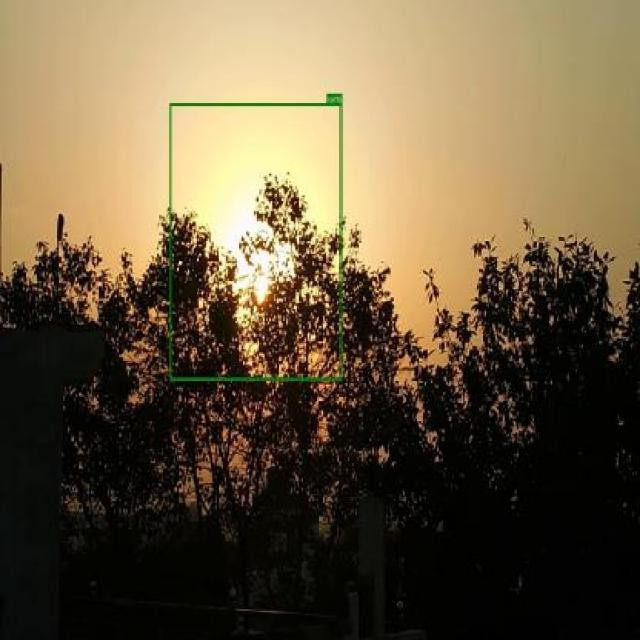other: (170, 103, 342, 380)
